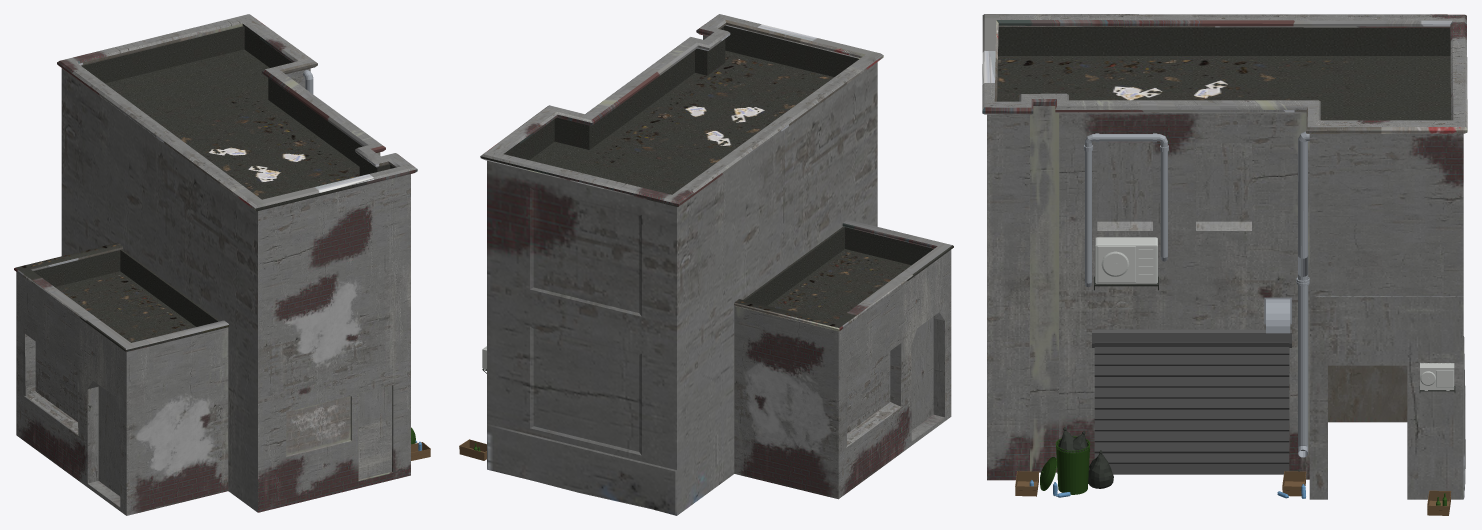
Rendered from CyberBuilding_02.fbx.
3 views of the same model, side by side, from view 1: azimuth 30°, elevation 25°; view 2: azimuth 150°, elevation 25°; view 3: azimuth 270°, elevation 25° (orthographic). The views are drawn at different scales.
Parts seen in each view (by area): view 1: mb_L, mb_roof_frame_L; view 2: mb_L, mb_roof_frame_L; view 3: mb_L, garage_door, mb_roof_frame_L, pipes_1_L, air, pipes_3_L, trash_can, vent, air1, trash, plastic_box_.
Part boxes in pixels (left/top/right/bottom): mb_L: left=16, top=26, right=410, bottom=515; mb_roof_frame_L: left=14, top=14, right=417, bottom=351; mb_L: left=487, top=25, right=951, bottom=515; mb_roof_frame_L: left=480, top=14, right=953, bottom=331; mb_L: left=987, top=27, right=1465, bottom=499; garage_door: left=1092, top=329, right=1291, bottom=474; mb_roof_frame_L: left=982, top=14, right=1467, bottom=133; pipes_1_L: left=1296, top=131, right=1309, bottom=457; air: left=1095, top=237, right=1157, bottom=283; pipes_3_L: left=1084, top=133, right=1168, bottom=287; trash_can: left=1040, top=436, right=1090, bottom=494; vent: left=1264, top=297, right=1291, bottom=333; air1: left=1420, top=363, right=1454, bottom=390; trash: left=1088, top=450, right=1113, bottom=488; plastic_box_: left=1015, top=471, right=1039, bottom=496.
Size of the model in its own units: 622 by 570 by 669.
Materials: 10 (1 with a texture image).
